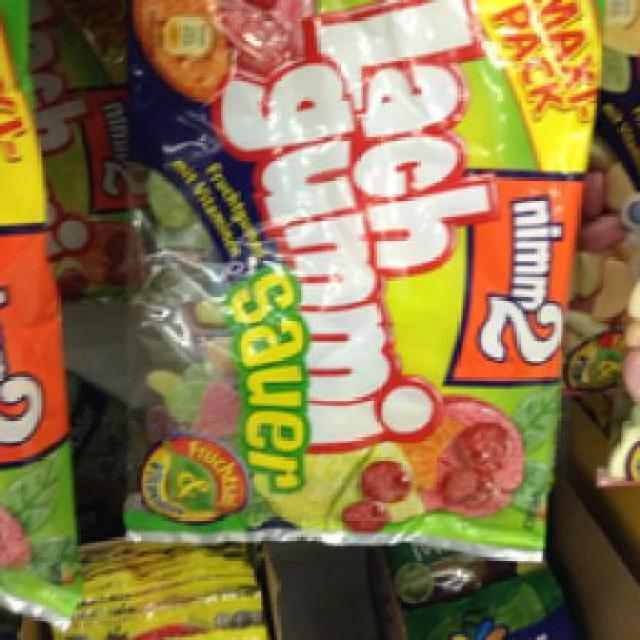Candy: (120, 0, 600, 557)
